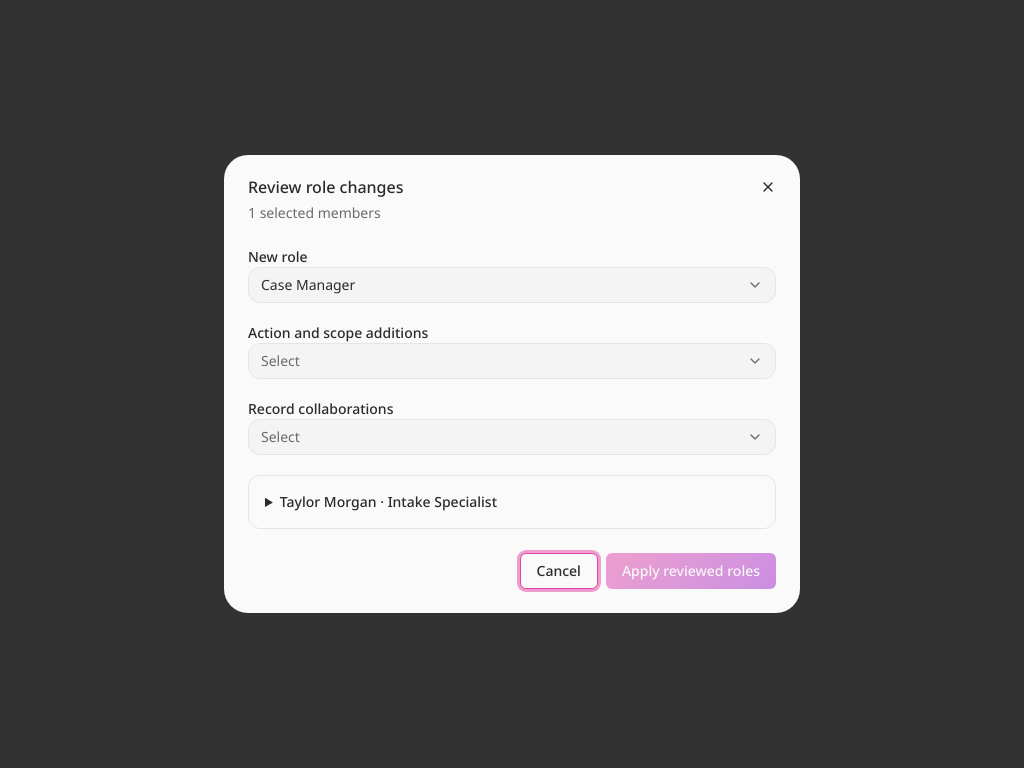
Test case: bulk member role review › excludes included features from carryover counts and removed action previews
Expected: the dropdown named "New role" is shown, top-left (248, 267), bottom-right (776, 303)
Click the heading "Taylor Morgan · Intake Specialist" at (388, 502), box top-left (280, 492), bottom-right (497, 511)
(page scrolled)
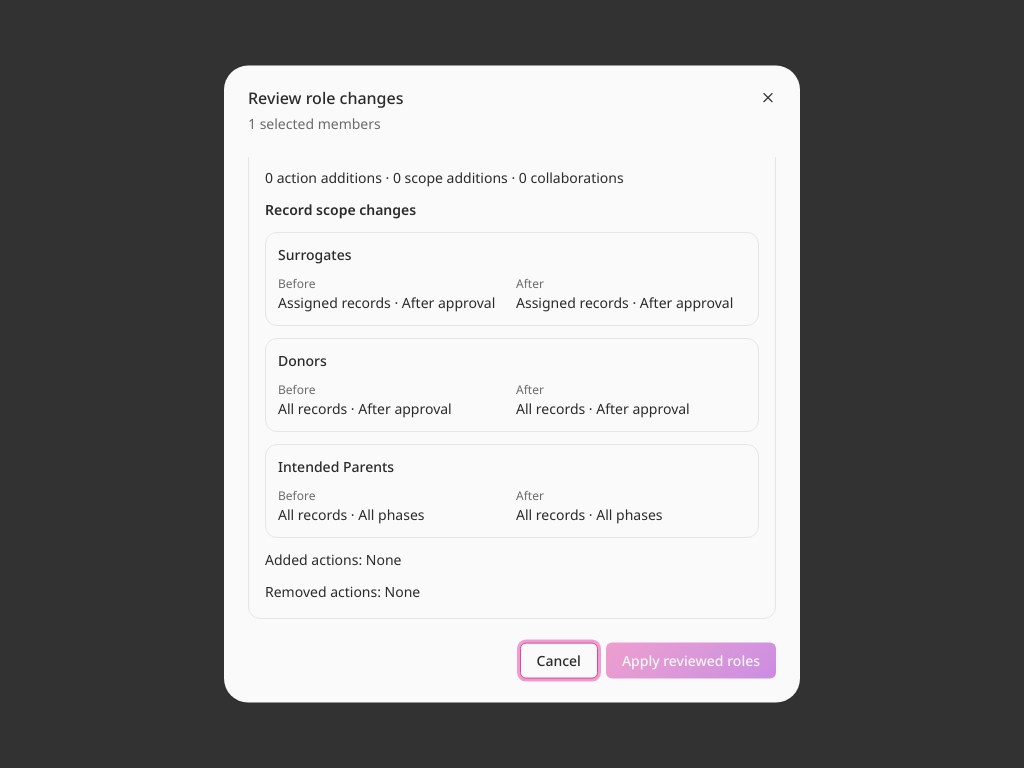
Expected: the text "0 action additions · 0 scope additions · 0 collaborations" is shown, top-left (265, 168), bottom-right (624, 187)
Expected: the text "Removed actions: None" is shown, top-left (265, 582), bottom-right (420, 601)
